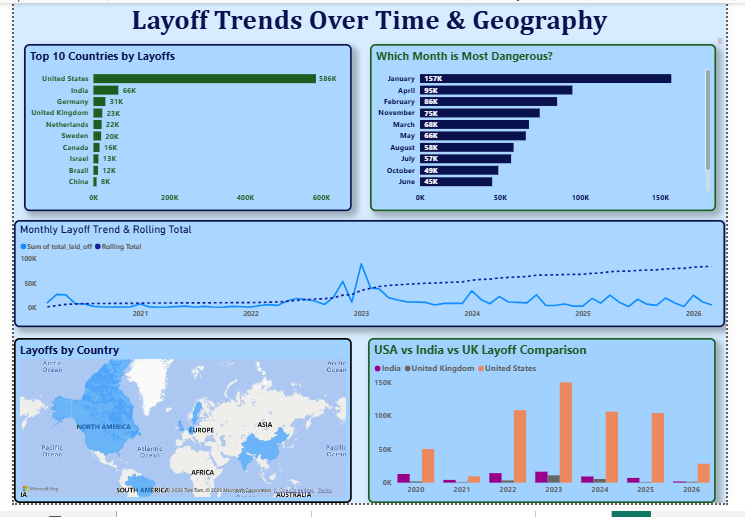

This screenshot's page, from the dashboard's own definition file:
{"tool":"powerbi","page":{"name":"Layoff Trends Over Time & Geography","canvas":[1280,900],"ordinal":2},"visuals":[{"type":"textbox","title":"Layoff Trends Over Time & Geography","box":[0,0,1280,79],"z":0},{"type":"lineChart","title":"Monthly Layoff Trend & Rolling Total","fields":{"Y":["Sum(public layoffs.total_laid_off)"],"Category":["public layoffs.date.Variation.Date Hierarchy.Year","public layoffs.date.Variation.Date Hierarchy.Month"],"Y2":["public layoffs.Rolling Total"]},"box":[0,391.4,1280,193.2],"z":1000},{"type":"clusteredBarChart","title":" Top 10 Countries by Layoffs","fields":{"Category":["public layoffs.country"],"Y":["Sum(public layoffs.total_laid_off)"]},"box":[18.5,73.9,589.6,300.7],"z":2000},{"type":"clusteredBarChart","title":"  Which Month is Most Dangerous?","fields":{"Y":["Sum(public layoffs.total_laid_off)"],"Category":["public layoffs.month_name"]},"box":[640,73.9,623.2,300.7],"z":3000},{"type":"filledMap","title":"Layoffs by Country","fields":{"Category":["public layoffs.country"],"Series":["public layoffs.total_laid_off"]},"box":[0,603,608.4,297],"z":4000},{"type":"clusteredColumnChart","title":"USA vs India vs UK Layoff Comparison","fields":{"Category":["public layoffs.date.Variation.Date Hierarchy.Year"],"Y":["Sum(public layoffs.total_laid_off)"],"Series":["public layoffs.country"]},"box":[637.2,603,626.4,297],"z":5000}]}

Visuals, with their boxes in screenshot pixels (x1, y1, x2, y2), scaled from the page's 1280x900 canvas onto the 745x517 screenshot:
"Layoff Trends Over Time & Geography" textbox: box=[0, 0, 744, 45]
"Monthly Layoff Trend & Rolling Total" lineChart: box=[0, 225, 744, 336]
" Top 10 Countries by Layoffs" clusteredBarChart: box=[11, 42, 354, 215]
"  Which Month is Most Dangerous?" clusteredBarChart: box=[372, 42, 735, 215]
"Layoffs by Country" filledMap: box=[0, 346, 354, 516]
"USA vs India vs UK Layoff Comparison" clusteredColumnChart: box=[371, 346, 735, 516]
